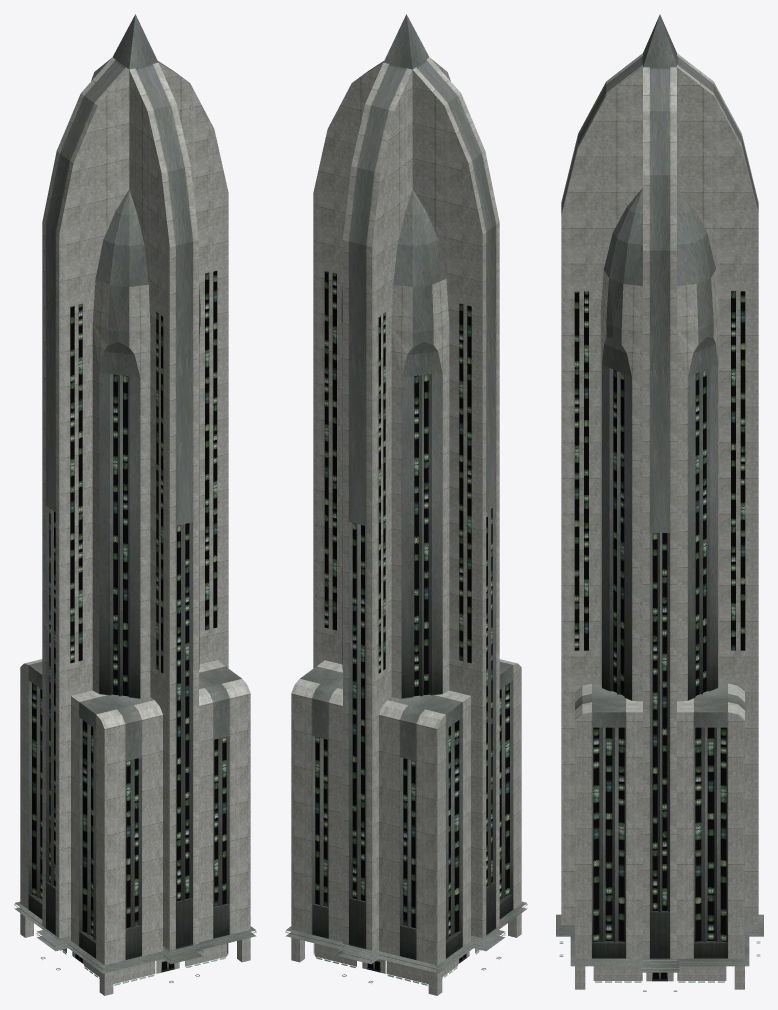
Rendered from thm_corl_skyskraper_s01_l1.fbx.
The picture shows the model from 3 angles, left to right: view 1: azimuth 30°, elevation 25°; view 2: azimuth 150°, elevation 25°; view 3: azimuth 270°, elevation 25°; orthographic projection.
Parts seen in each view (by area): view 1: mesh_node; view 2: mesh_node; view 3: mesh_node.
Part boxes in pixels (box(x1,y1,x2,y2)): mesh_node: box(14, 14, 256, 995); mesh_node: box(285, 14, 527, 995); mesh_node: box(556, 14, 763, 991).
Bounding box in the file's own units: 42.22 × 210 × 42.22.
